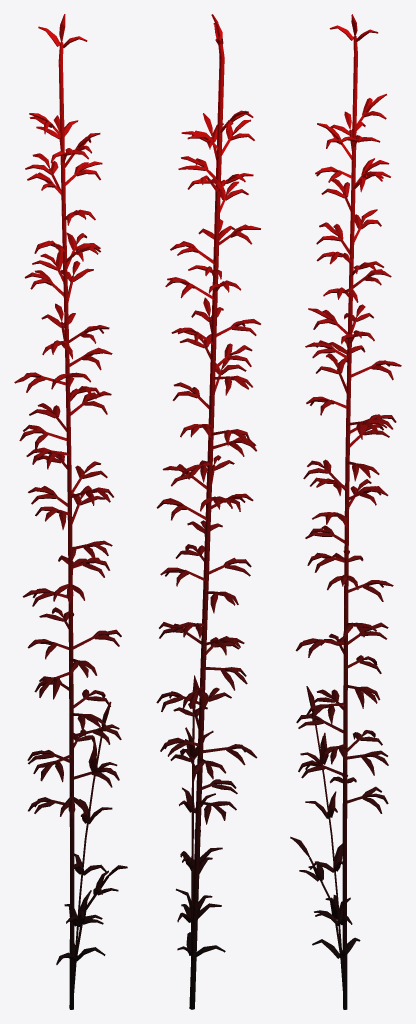
Rendered from TreeBambooTall04.fbx.
3 renders of one model, left to right at view 1: azimuth 90°, elevation 25°; view 2: azimuth 210°, elevation 25°; view 3: azimuth 270°, elevation 25°, orthographic.
Visible parts, largest first — view 1: TreeBambooTall04_LOD0; view 2: TreeBambooTall04_LOD0; view 3: TreeBambooTall04_LOD0.
Part boxes in pixels (left/top/right/bottom): TreeBambooTall04_LOD0: left=14, top=14, right=127, bottom=1009; TreeBambooTall04_LOD0: left=156, top=14, right=260, bottom=1009; TreeBambooTall04_LOD0: left=290, top=14, right=401, bottom=1009.
Size of what is drawn, in the model's own units: 114 by 1195 by 123.
